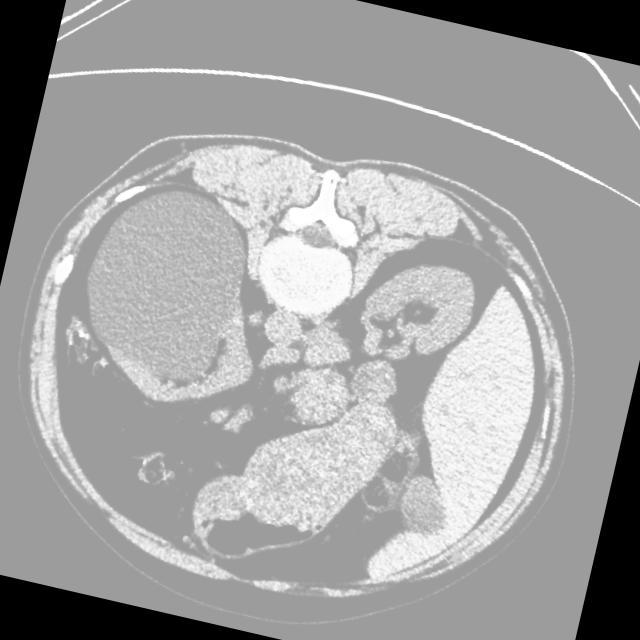cysts: (0, 91, 615, 640)
